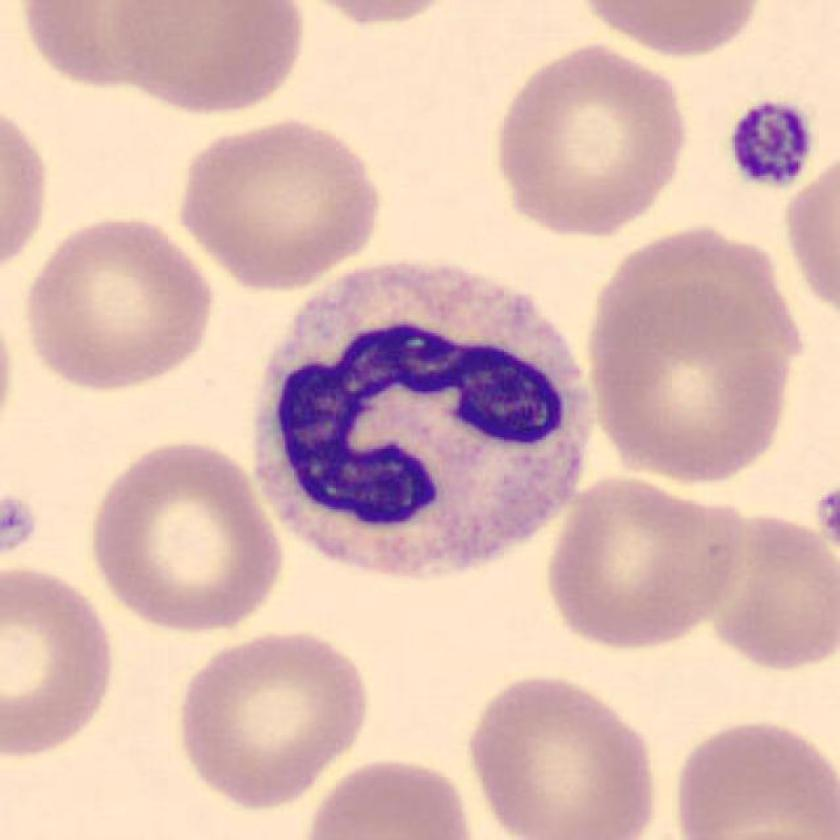neutrophil: (254, 265, 589, 575)
